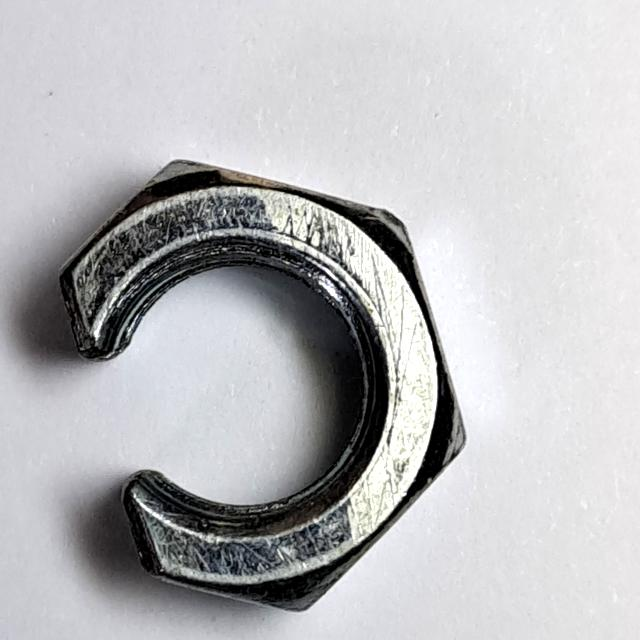Fracture: (51, 143, 477, 620)
